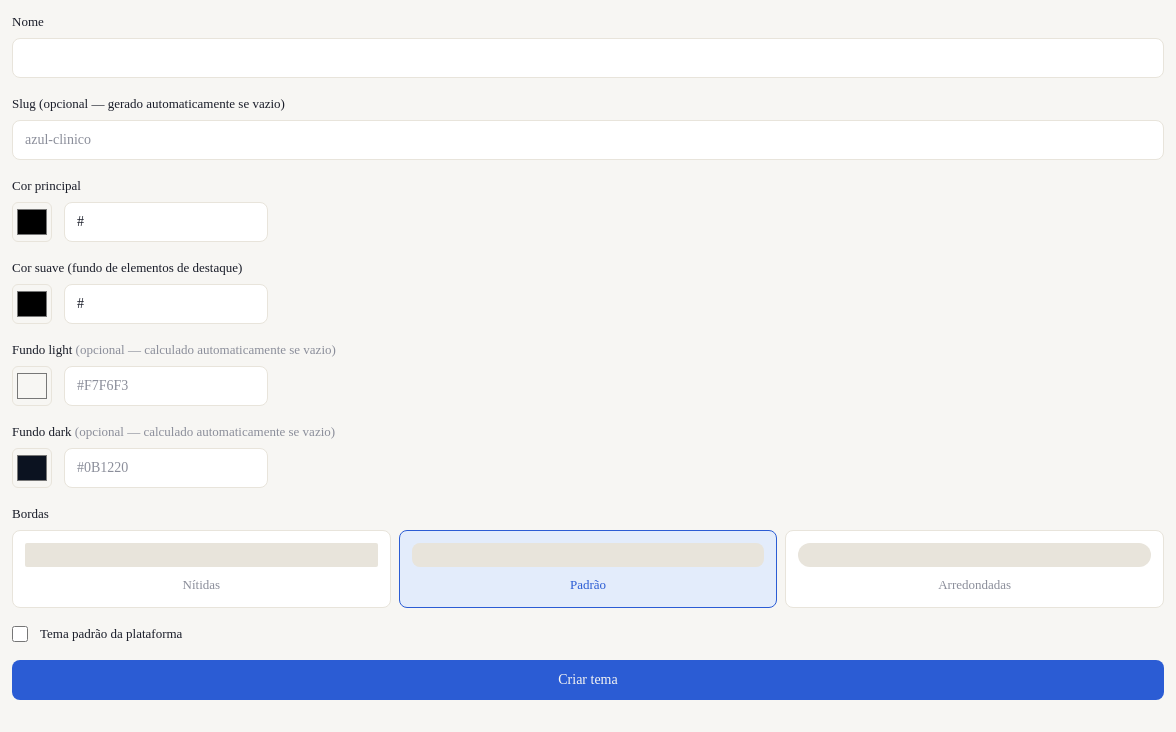
Test: ThemeForm (integration) — create mode › changing accentSoftColor picker updates accentSoftColor text input
The image size is (1176, 732).
Type "#aabbcc" into the colour field with id "accentSoftColor-picker" at (32, 304), box [12, 284, 52, 324]
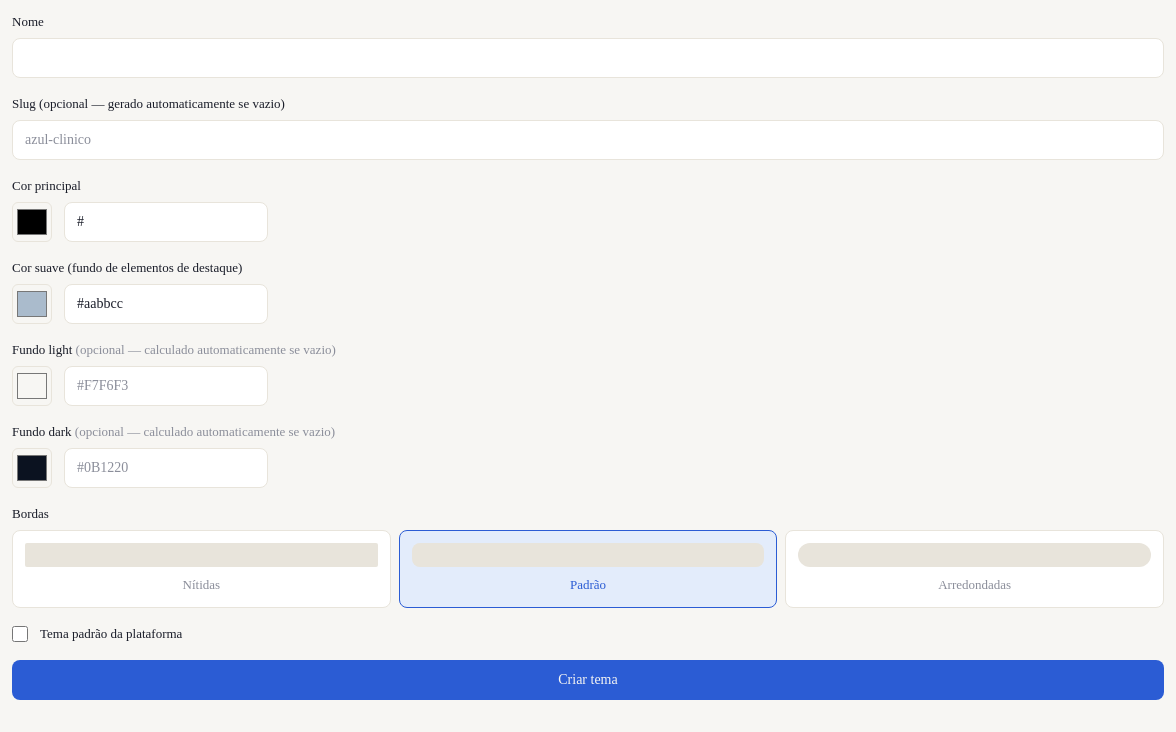
Expected: the field with test id "theme-form-accent-soft-color" holds "#aabbcc", [64, 284, 268, 324]
